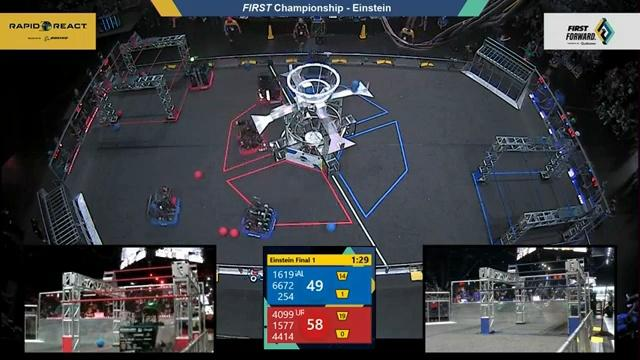robot: (238, 193, 282, 242), (143, 185, 184, 228), (232, 115, 271, 160), (183, 54, 217, 92), (256, 71, 285, 107), (303, 53, 334, 82)
